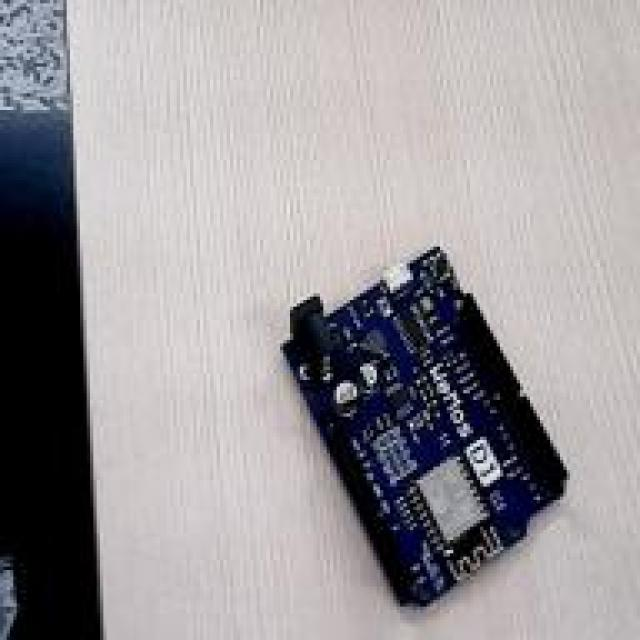Wemos: (284, 248, 564, 604)
